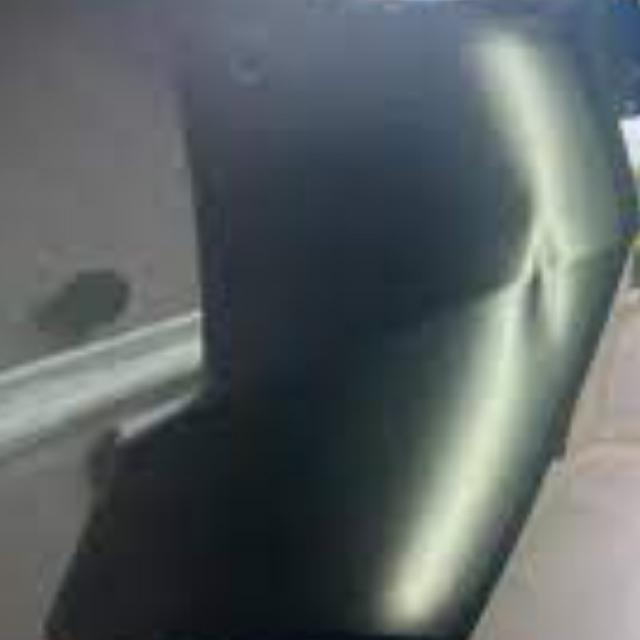dents: (504, 219, 584, 364)
